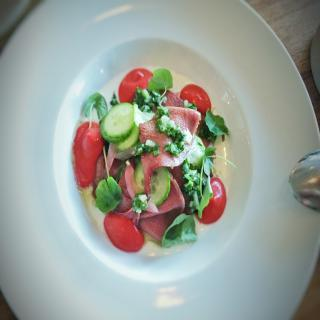tomato: (74, 120, 104, 188), (105, 210, 144, 251), (196, 178, 228, 224), (119, 67, 153, 105), (178, 84, 210, 112)
